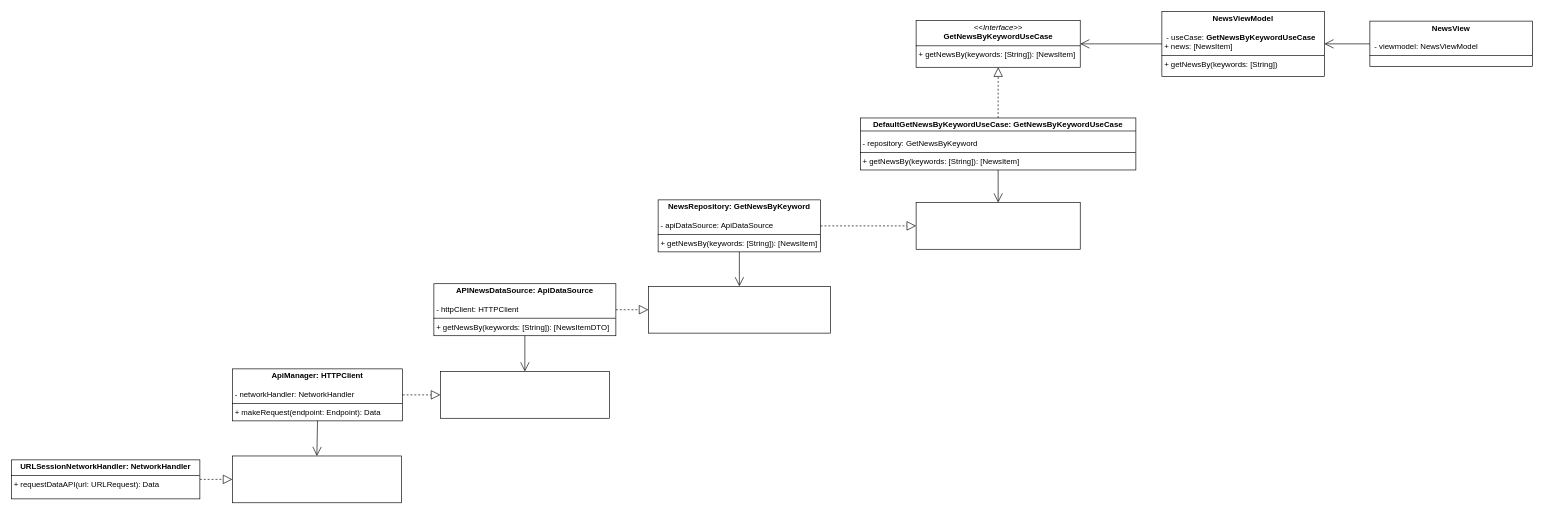
This 1544x514 diagram has some shape labels left out. Each missing label, with the centre of its shape:
<<Interface>> ApiDataSource + getNewsBy(keywords: [String]): [ NewsItemDTO ]: point 739,309
<<Interface>> GetNewsByKeyword + getNewsBy(keywords: [String]): [ NewsItem ]: point 997,225
<<Interface>> HTTPClient + makeRequest(endpoint: Endpoint): Data: point 524,394
<<Interface>> NetworkHandler + requestDataAPI(url: URLRequest): Data: point 316,479
